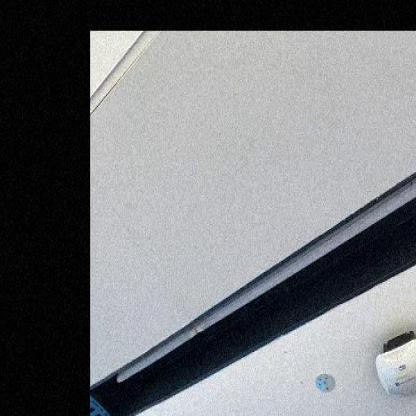light_off: (113, 138, 415, 397)
